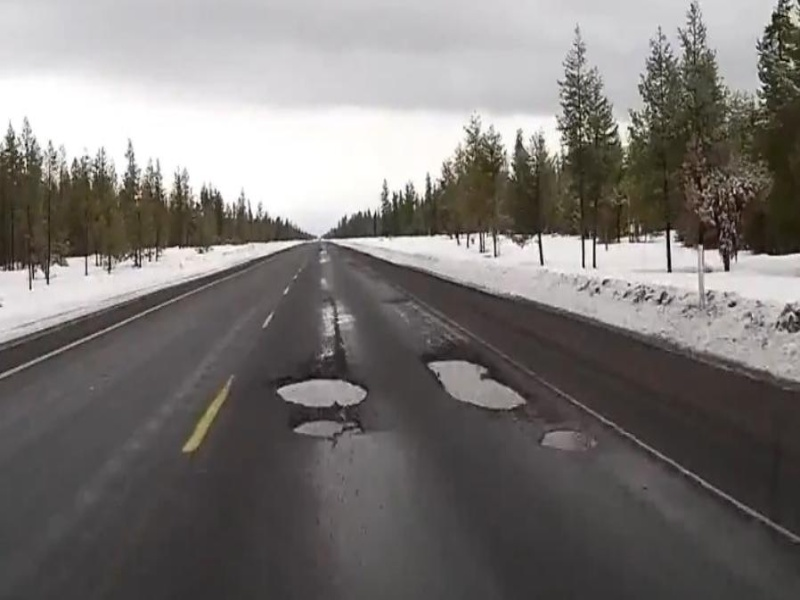pothole: (420, 348, 536, 418), (271, 375, 380, 410), (533, 418, 603, 457), (282, 410, 363, 440)
